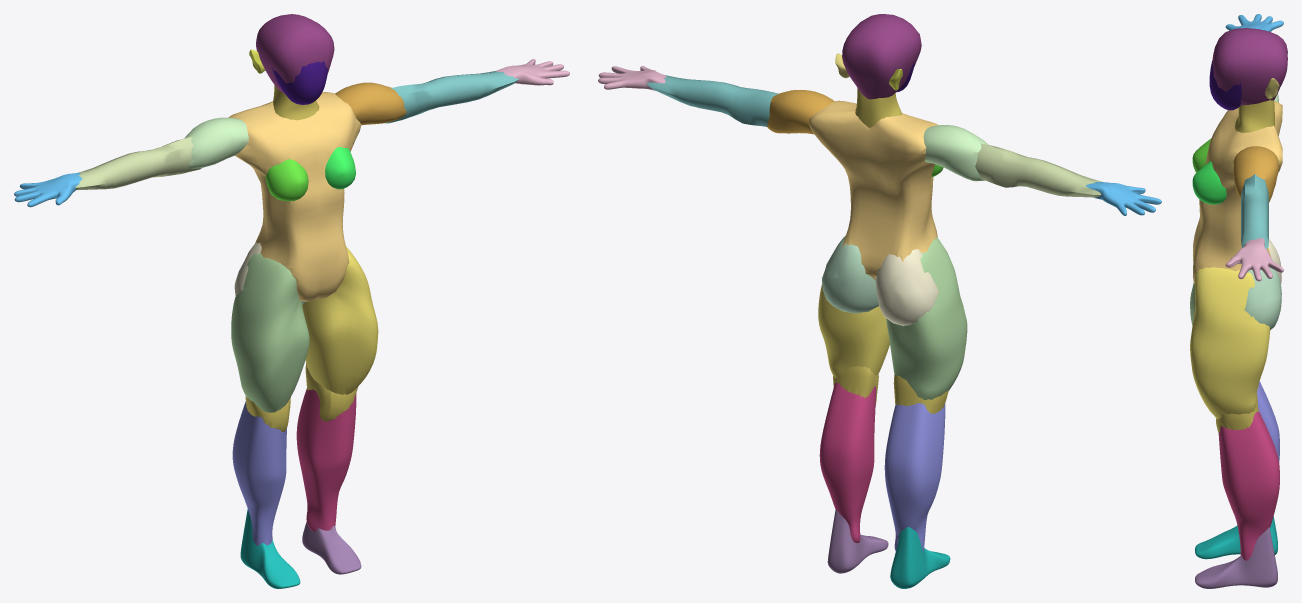
The picture shows the model from 3 angles, left to right: view 1: azimuth 30°, elevation 25°; view 2: azimuth 150°, elevation 25°; view 3: azimuth 270°, elevation 25°; orthographic projection. The views are drawn at different scales.
Visible parts, largest first — view 1: Torso_Material.004_0, Gamba_Material.006_0.001, Gamba_Material.006_0, Pantorilla_Material.008_0, Pantorilla_Material.008_0.001, craneo_Material.001_0, Cube_Material.012_0.001, Cube_Material.012_0, Hombros_Material.010_0.001, Hombros_Material.010_0, Cube.002_Material.009_0.001, split_parent_19 (+7 smaller); view 2: Torso_Material.004_0, Gamba_Material.006_0.001, Pantorilla_Material.008_0.001, Pantorilla_Material.008_0, craneo_Material.001_0, Gamba_Material.006_0, Cube_Material.012_0.001, Sphere_Material.014_0.002, Cube_Material.012_0, Sphere_Material.014_0, Hombros_Material.010_0.001, Hombros_Material.010_0 (+6 smaller); view 3: Gamba_Material.006_0, Torso_Material.004_0, Pantorilla_Material.008_0, craneo_Material.001_0, Cube.002_Material.009_0, Cube_Material.012_0, Hombros_Material.010_0, Sphere_Material.014_0, Cube.001_Material.013_0, Cube.002_Material.009_0.001, cuello_Material.003_0, Pechos_Material.005_0 (+8 smaller).
Boxes of the visible parts, bbox=[...] form: Torso_Material.004_0: bbox=[228, 92, 361, 301]; Gamba_Material.006_0.001: bbox=[231, 253, 309, 412]; Gamba_Material.006_0: bbox=[302, 247, 378, 394]; Pantorilla_Material.008_0: bbox=[296, 388, 356, 531]; Pantorilla_Material.008_0.001: bbox=[232, 401, 286, 545]; craneo_Material.001_0: bbox=[256, 14, 334, 93]; Cube_Material.012_0.001: bbox=[75, 137, 201, 189]; Cube_Material.012_0: bbox=[385, 71, 518, 123]; Hombros_Material.010_0.001: bbox=[184, 117, 248, 168]; Hombros_Material.010_0: bbox=[335, 82, 406, 125]; Cube.002_Material.009_0.001: bbox=[240, 509, 300, 588]; split_parent_19: bbox=[245, 363, 357, 431]; Torso_Material.004_0: bbox=[808, 100, 938, 280]; Gamba_Material.006_0.001: bbox=[886, 238, 967, 399]; Pantorilla_Material.008_0.001: bbox=[884, 403, 945, 551]; Pantorilla_Material.008_0: bbox=[819, 383, 876, 542]; craneo_Material.001_0: bbox=[842, 14, 921, 99]; Gamba_Material.006_0: bbox=[818, 284, 889, 378]; Cube_Material.012_0.001: bbox=[975, 143, 1102, 197]; Sphere_Material.014_0.002: bbox=[875, 249, 938, 325]; Cube_Material.012_0: bbox=[646, 75, 778, 126]; Sphere_Material.014_0: bbox=[822, 235, 878, 313]; Hombros_Material.010_0.001: bbox=[923, 125, 988, 181]; Hombros_Material.010_0: bbox=[767, 90, 834, 134]; Gamba_Material.006_0: bbox=[1190, 267, 1270, 418]; Torso_Material.004_0: bbox=[1193, 101, 1282, 284]; Pantorilla_Material.008_0: bbox=[1218, 411, 1279, 560]; craneo_Material.001_0: bbox=[1212, 28, 1287, 106]; Cube.002_Material.009_0: bbox=[1195, 527, 1277, 588]; Cube_Material.012_0: bbox=[1241, 174, 1268, 249]; Hombros_Material.010_0: bbox=[1233, 146, 1278, 202]; Sphere_Material.014_0: bbox=[1244, 267, 1281, 329]; Cube.001_Material.013_0: bbox=[1225, 238, 1283, 281]; Cube.002_Material.009_0.001: bbox=[1195, 516, 1277, 559]; cuello_Material.003_0: bbox=[1235, 100, 1274, 132]; Pechos_Material.005_0: bbox=[1192, 161, 1226, 204].
Bounding box in the file's own units: 1 × 0.95 × 0.1561.
